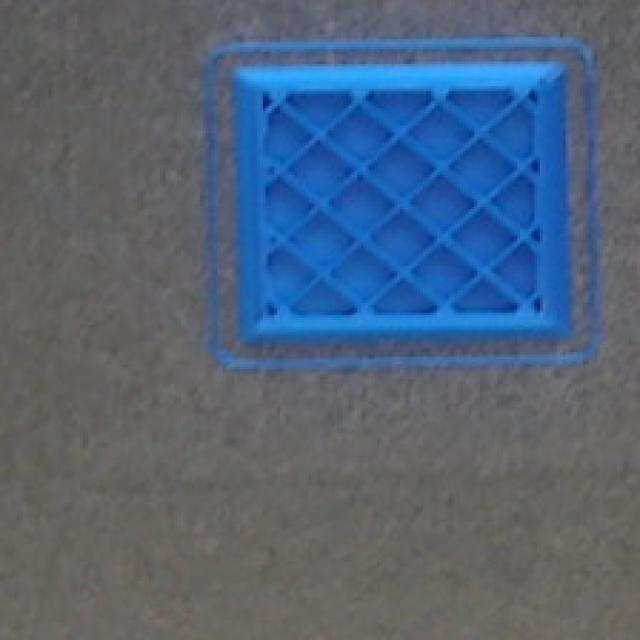noMistake: (220, 64, 580, 350)
